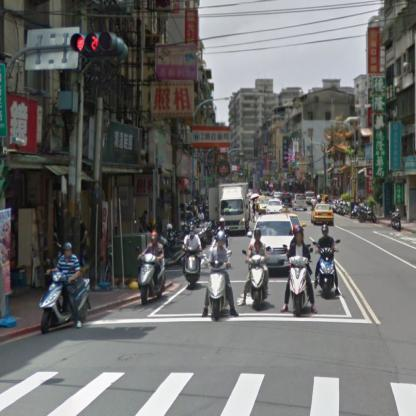Red Light: (68, 32, 126, 61)
